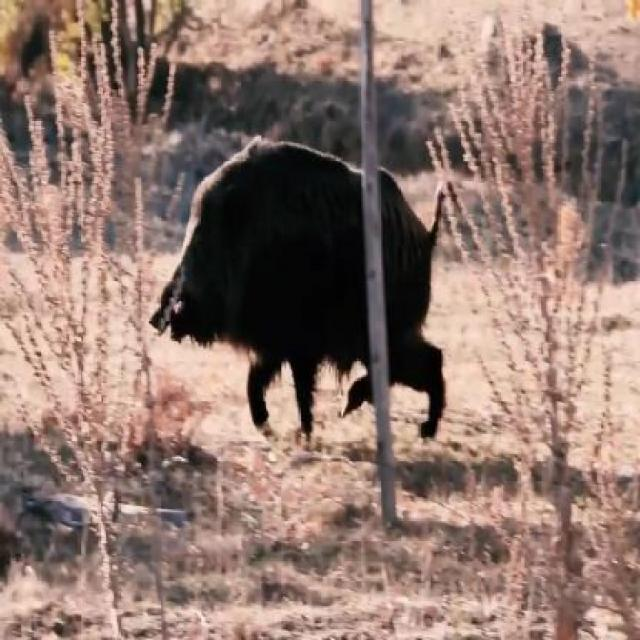pig: (124, 110, 486, 448)
